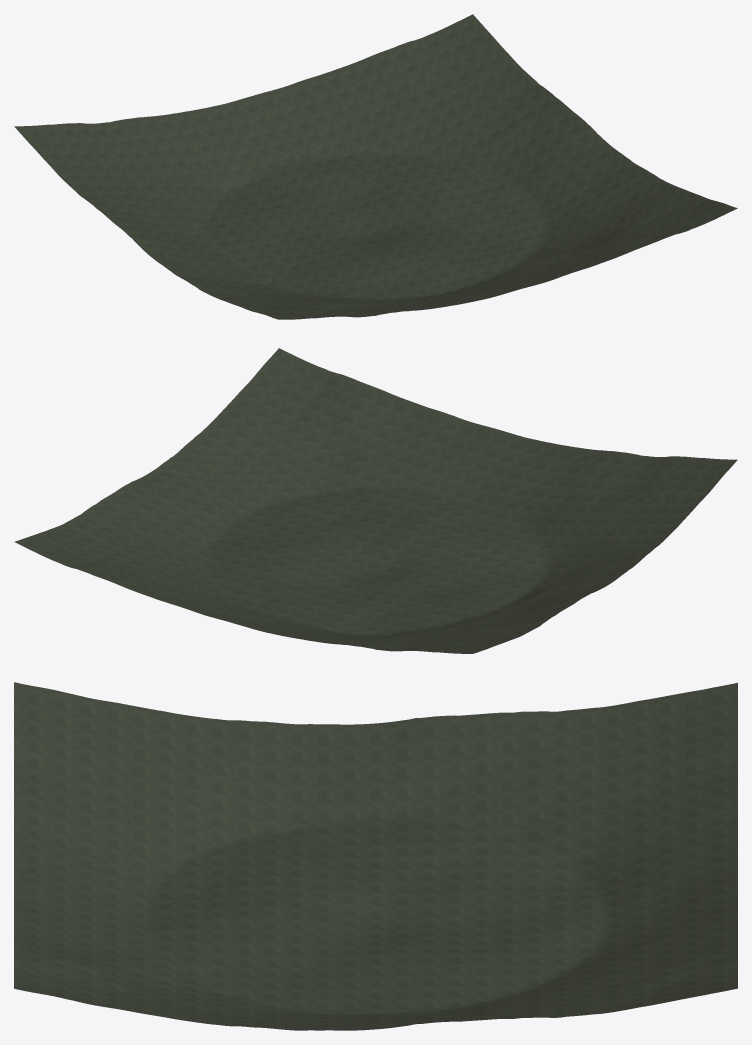
File: terreno_naufragios.fbx
3 renders of one model, top to bottom at view 1: azimuth 30°, elevation 25°; view 2: azimuth 150°, elevation 25°; view 3: azimuth 270°, elevation 25°, orthographic. The views are drawn at different scales.
Parts seen in each view (by area): view 1: terreno_naufragios; view 2: terreno_naufragios; view 3: terreno_naufragios.
Part boxes in pixels (x1,y1,x2,y2): terreno_naufragios: [14, 14, 737, 319]; terreno_naufragios: [14, 348, 737, 653]; terreno_naufragios: [14, 682, 737, 1030].
Bounding box in the file's own units: 110 × 15.4 × 110.
1 material, 1 textured.
